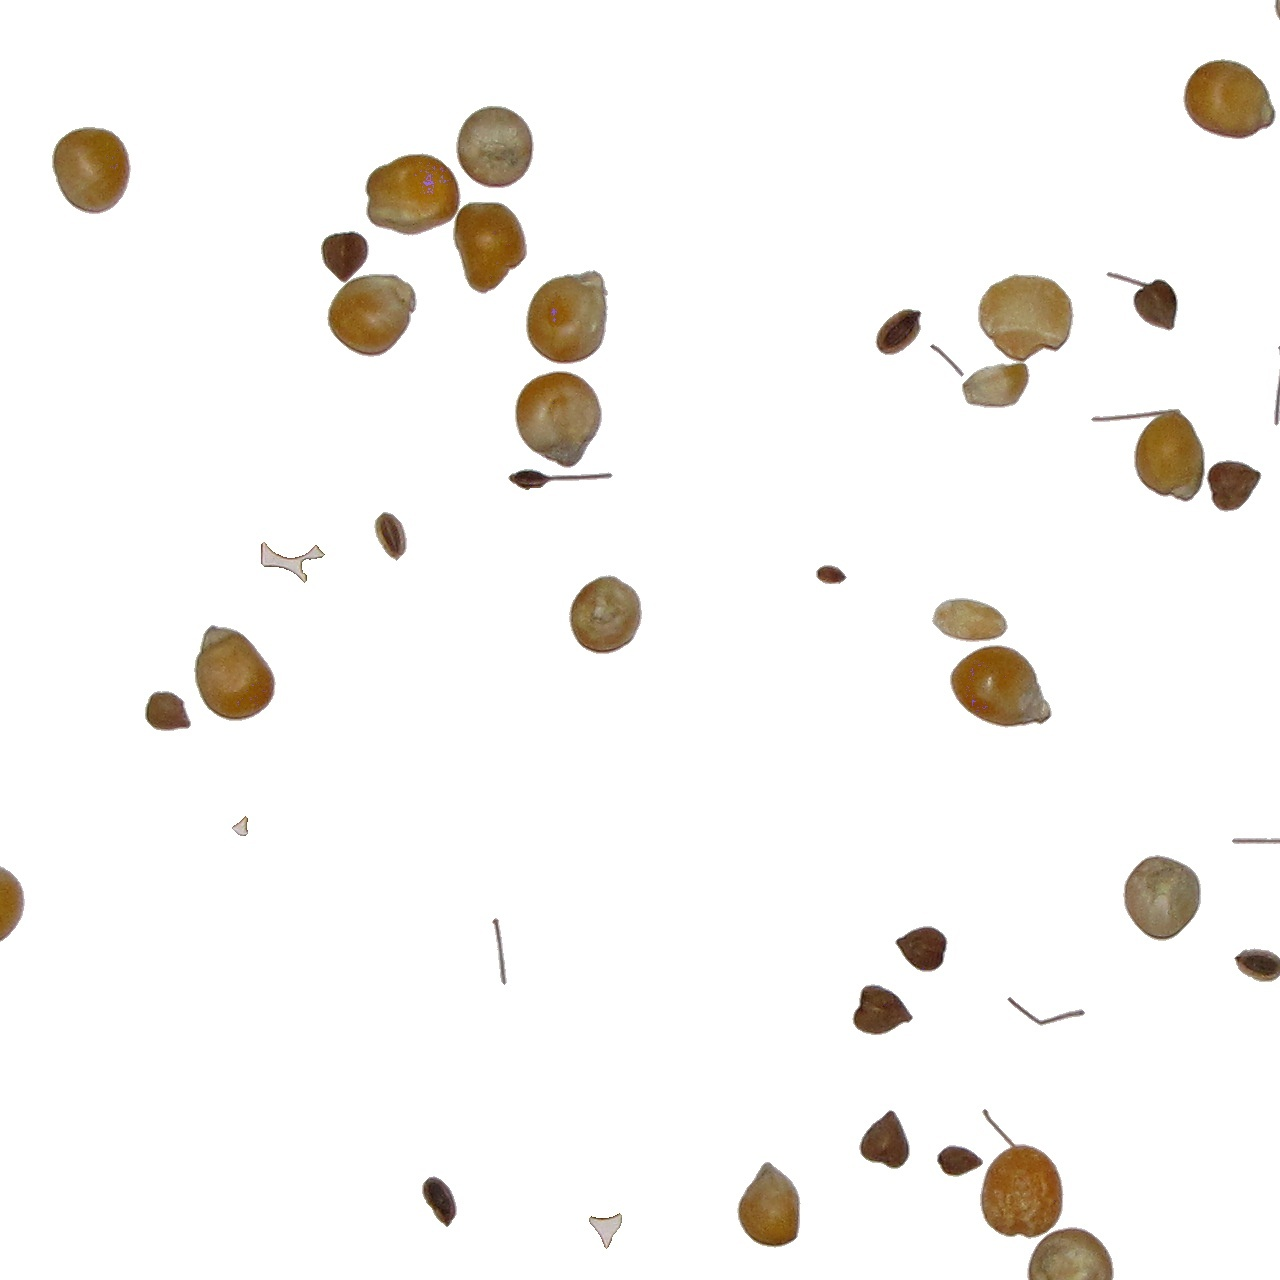buckwheat: (1105, 271, 1179, 332), (961, 361, 1032, 409), (851, 983, 914, 1036), (858, 1109, 911, 1170), (320, 230, 370, 284), (894, 925, 949, 973), (874, 308, 922, 356), (421, 1175, 458, 1228), (588, 1212, 622, 1250), (491, 917, 508, 986), (1273, 343, 1280, 427), (231, 815, 248, 837)
dill: (254, 542, 320, 584), (373, 511, 408, 561), (815, 564, 847, 585), (1231, 837, 1280, 845)
mais: (979, 1108, 1065, 1240), (1090, 408, 1206, 503), (978, 273, 1075, 365), (949, 644, 1053, 729), (515, 370, 602, 469), (365, 152, 462, 237), (193, 624, 277, 722), (525, 268, 610, 365), (326, 273, 418, 358), (1182, 57, 1276, 139), (52, 125, 132, 215), (452, 200, 527, 295), (1122, 855, 1201, 942), (455, 105, 535, 189), (568, 574, 644, 655), (736, 1160, 802, 1250), (1026, 1226, 1115, 1280), (1, 865, 25, 942)
other: (931, 597, 1009, 644), (1205, 459, 1262, 513), (508, 468, 614, 491), (1006, 996, 1085, 1027), (931, 1144, 983, 1182), (144, 690, 192, 731), (1235, 947, 1280, 983), (930, 343, 965, 377)
